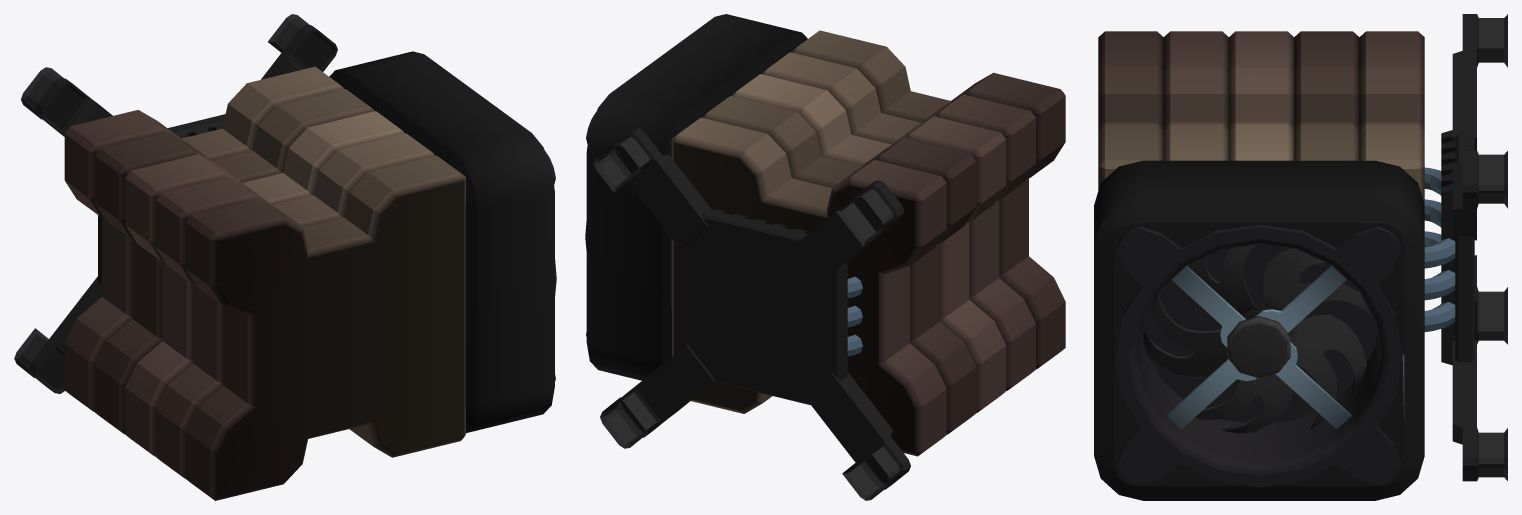
The model's file is Cooling_systems_lvl_05_V07.fbx.
3 renders of one model, left to right at view 1: azimuth 30°, elevation 25°; view 2: azimuth 150°, elevation 25°; view 3: azimuth 270°, elevation 25°, orthographic. The views are drawn at different scales.
Parts seen in each view (by area): view 1: Body_Cooling; view 2: Body_Cooling; view 3: Body_Cooling, Fan_Cooling.
Boxes of the visible parts, left/top/right/bottom form: Body_Cooling: left=14, top=14, right=556, bottom=500; Body_Cooling: left=585, top=14, right=1065, bottom=500; Body_Cooling: left=1094, top=14, right=1507, bottom=500; Fan_Cooling: left=1143, top=244, right=1374, bottom=433.
Bounding box in the file's own units: 55.78 × 46.9 × 51.59.
